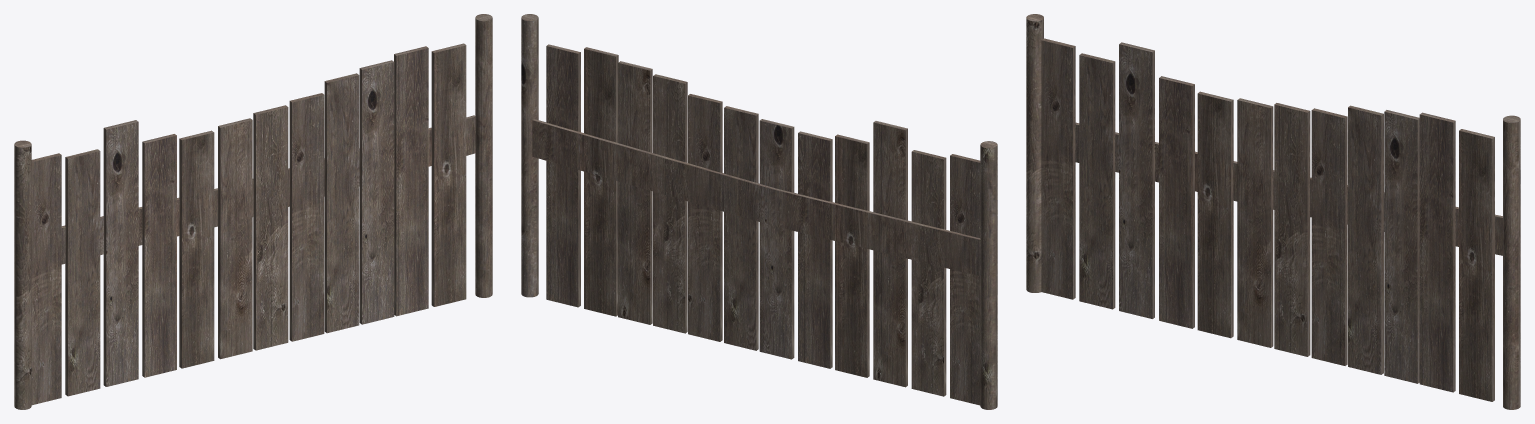
File: Fence05.fbx
3 views of the same model, side by side, from view 1: azimuth 30°, elevation 25°; view 2: azimuth 150°, elevation 25°; view 3: azimuth 330°, elevation 25° (orthographic). The views are drawn at different scales.
Parts seen in each view (by area): view 1: Fence05; view 2: Fence05; view 3: Fence05.
Boxes of the visible parts, x1=… form: Fence05: x1=14, y1=14, x2=492, y2=409; Fence05: x1=521, y1=14, x2=997, y2=409; Fence05: x1=1026, y1=14, x2=1520, y2=409.
Bounding box in the file's own units: 374 × 208 × 12.45.
